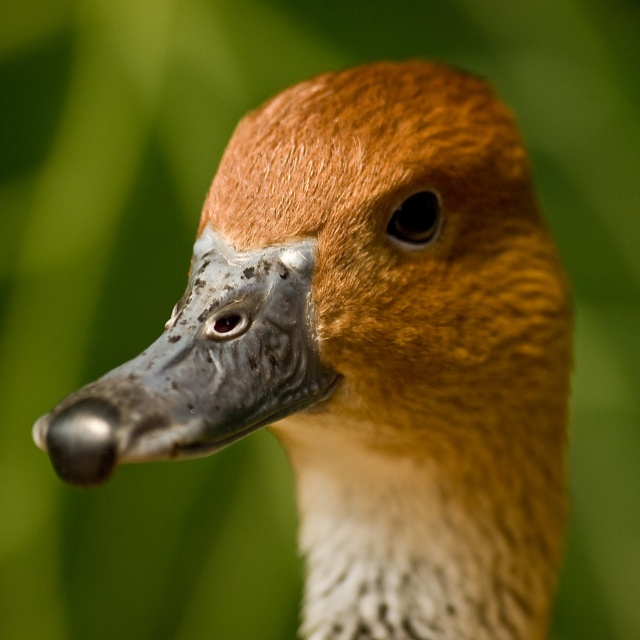Goose: (30, 59, 566, 639)
